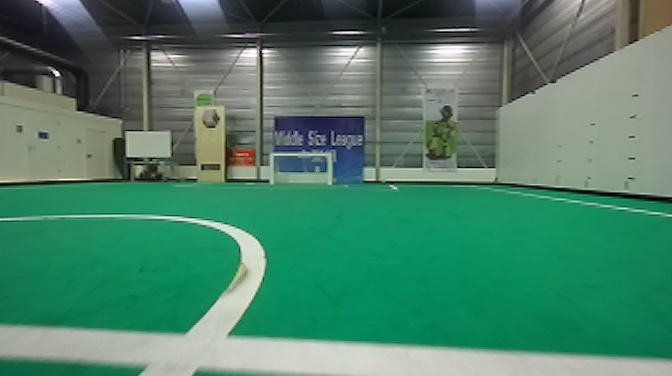goalpost: (320, 149, 336, 189), (268, 153, 280, 187)
